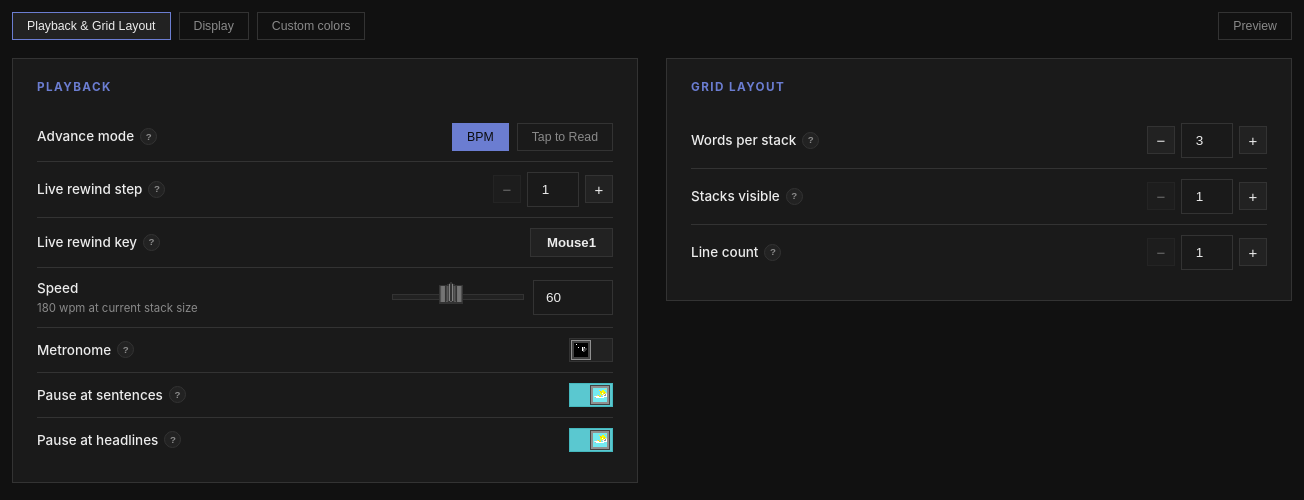
ReaderSettingsEditor — Settings host › shows an always-visible Line count and reveals the generic Anchor control above one line
The width and height of the screenshot is (1304, 500).
Check: the number field named "Line count value" holds "1", box [1181,234,1233,270]
Check: the element "Anchor" is not shown
Click the button named "Increase Line count". click: (1253, 252)
box: [1239,238,1267,266]
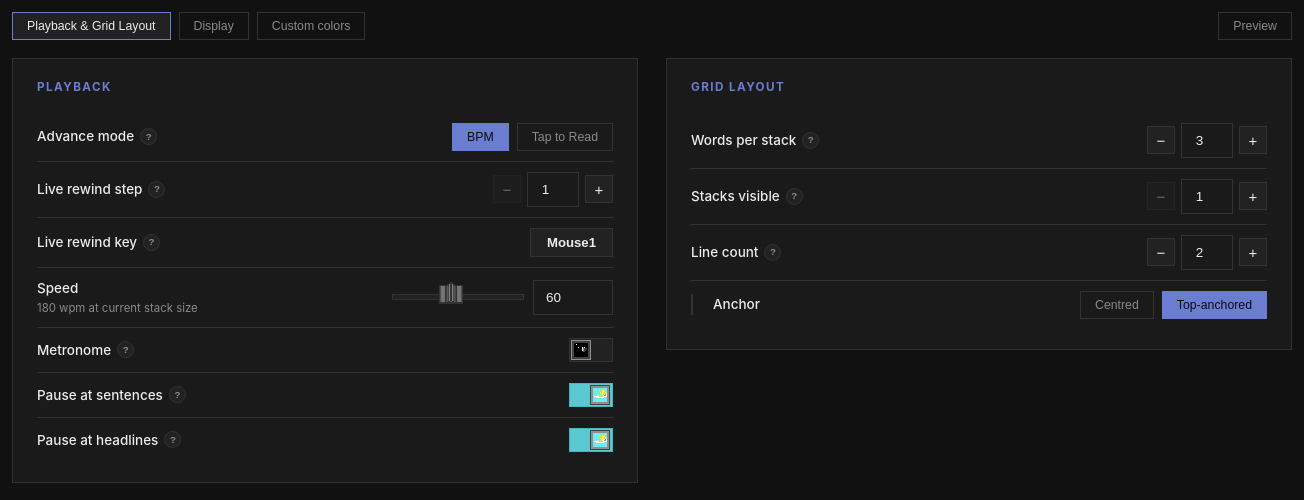
Check: the element "anchor" is shown, box [1080,290,1267,318]
